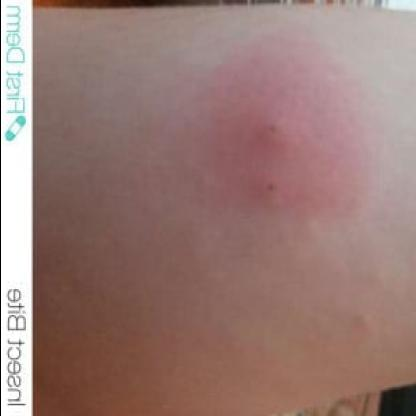Wasp: (226, 81, 330, 220)
